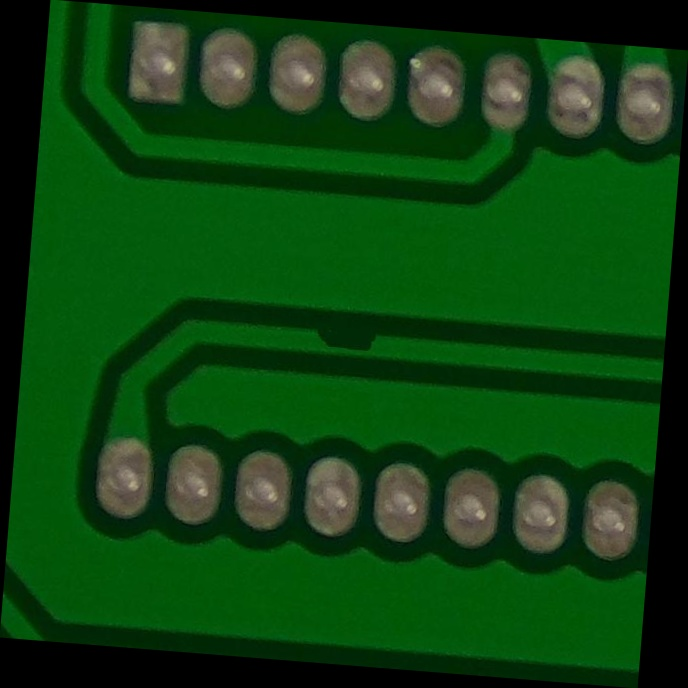mouse_bite: (294, 311, 394, 378)
